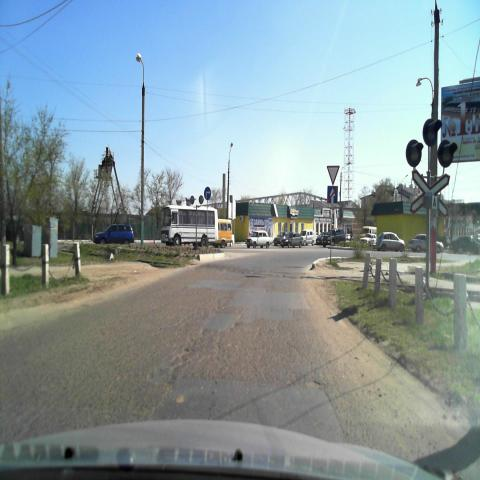2_4: (327, 165, 339, 185)
4_1_2: (205, 186, 212, 200)
5_6: (328, 186, 338, 204)
